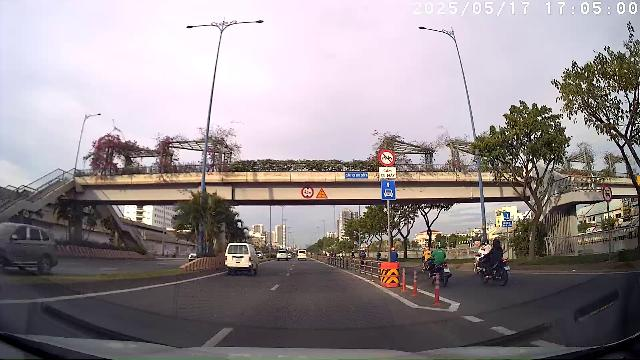103a-cam-oto: (602, 185, 612, 203)
